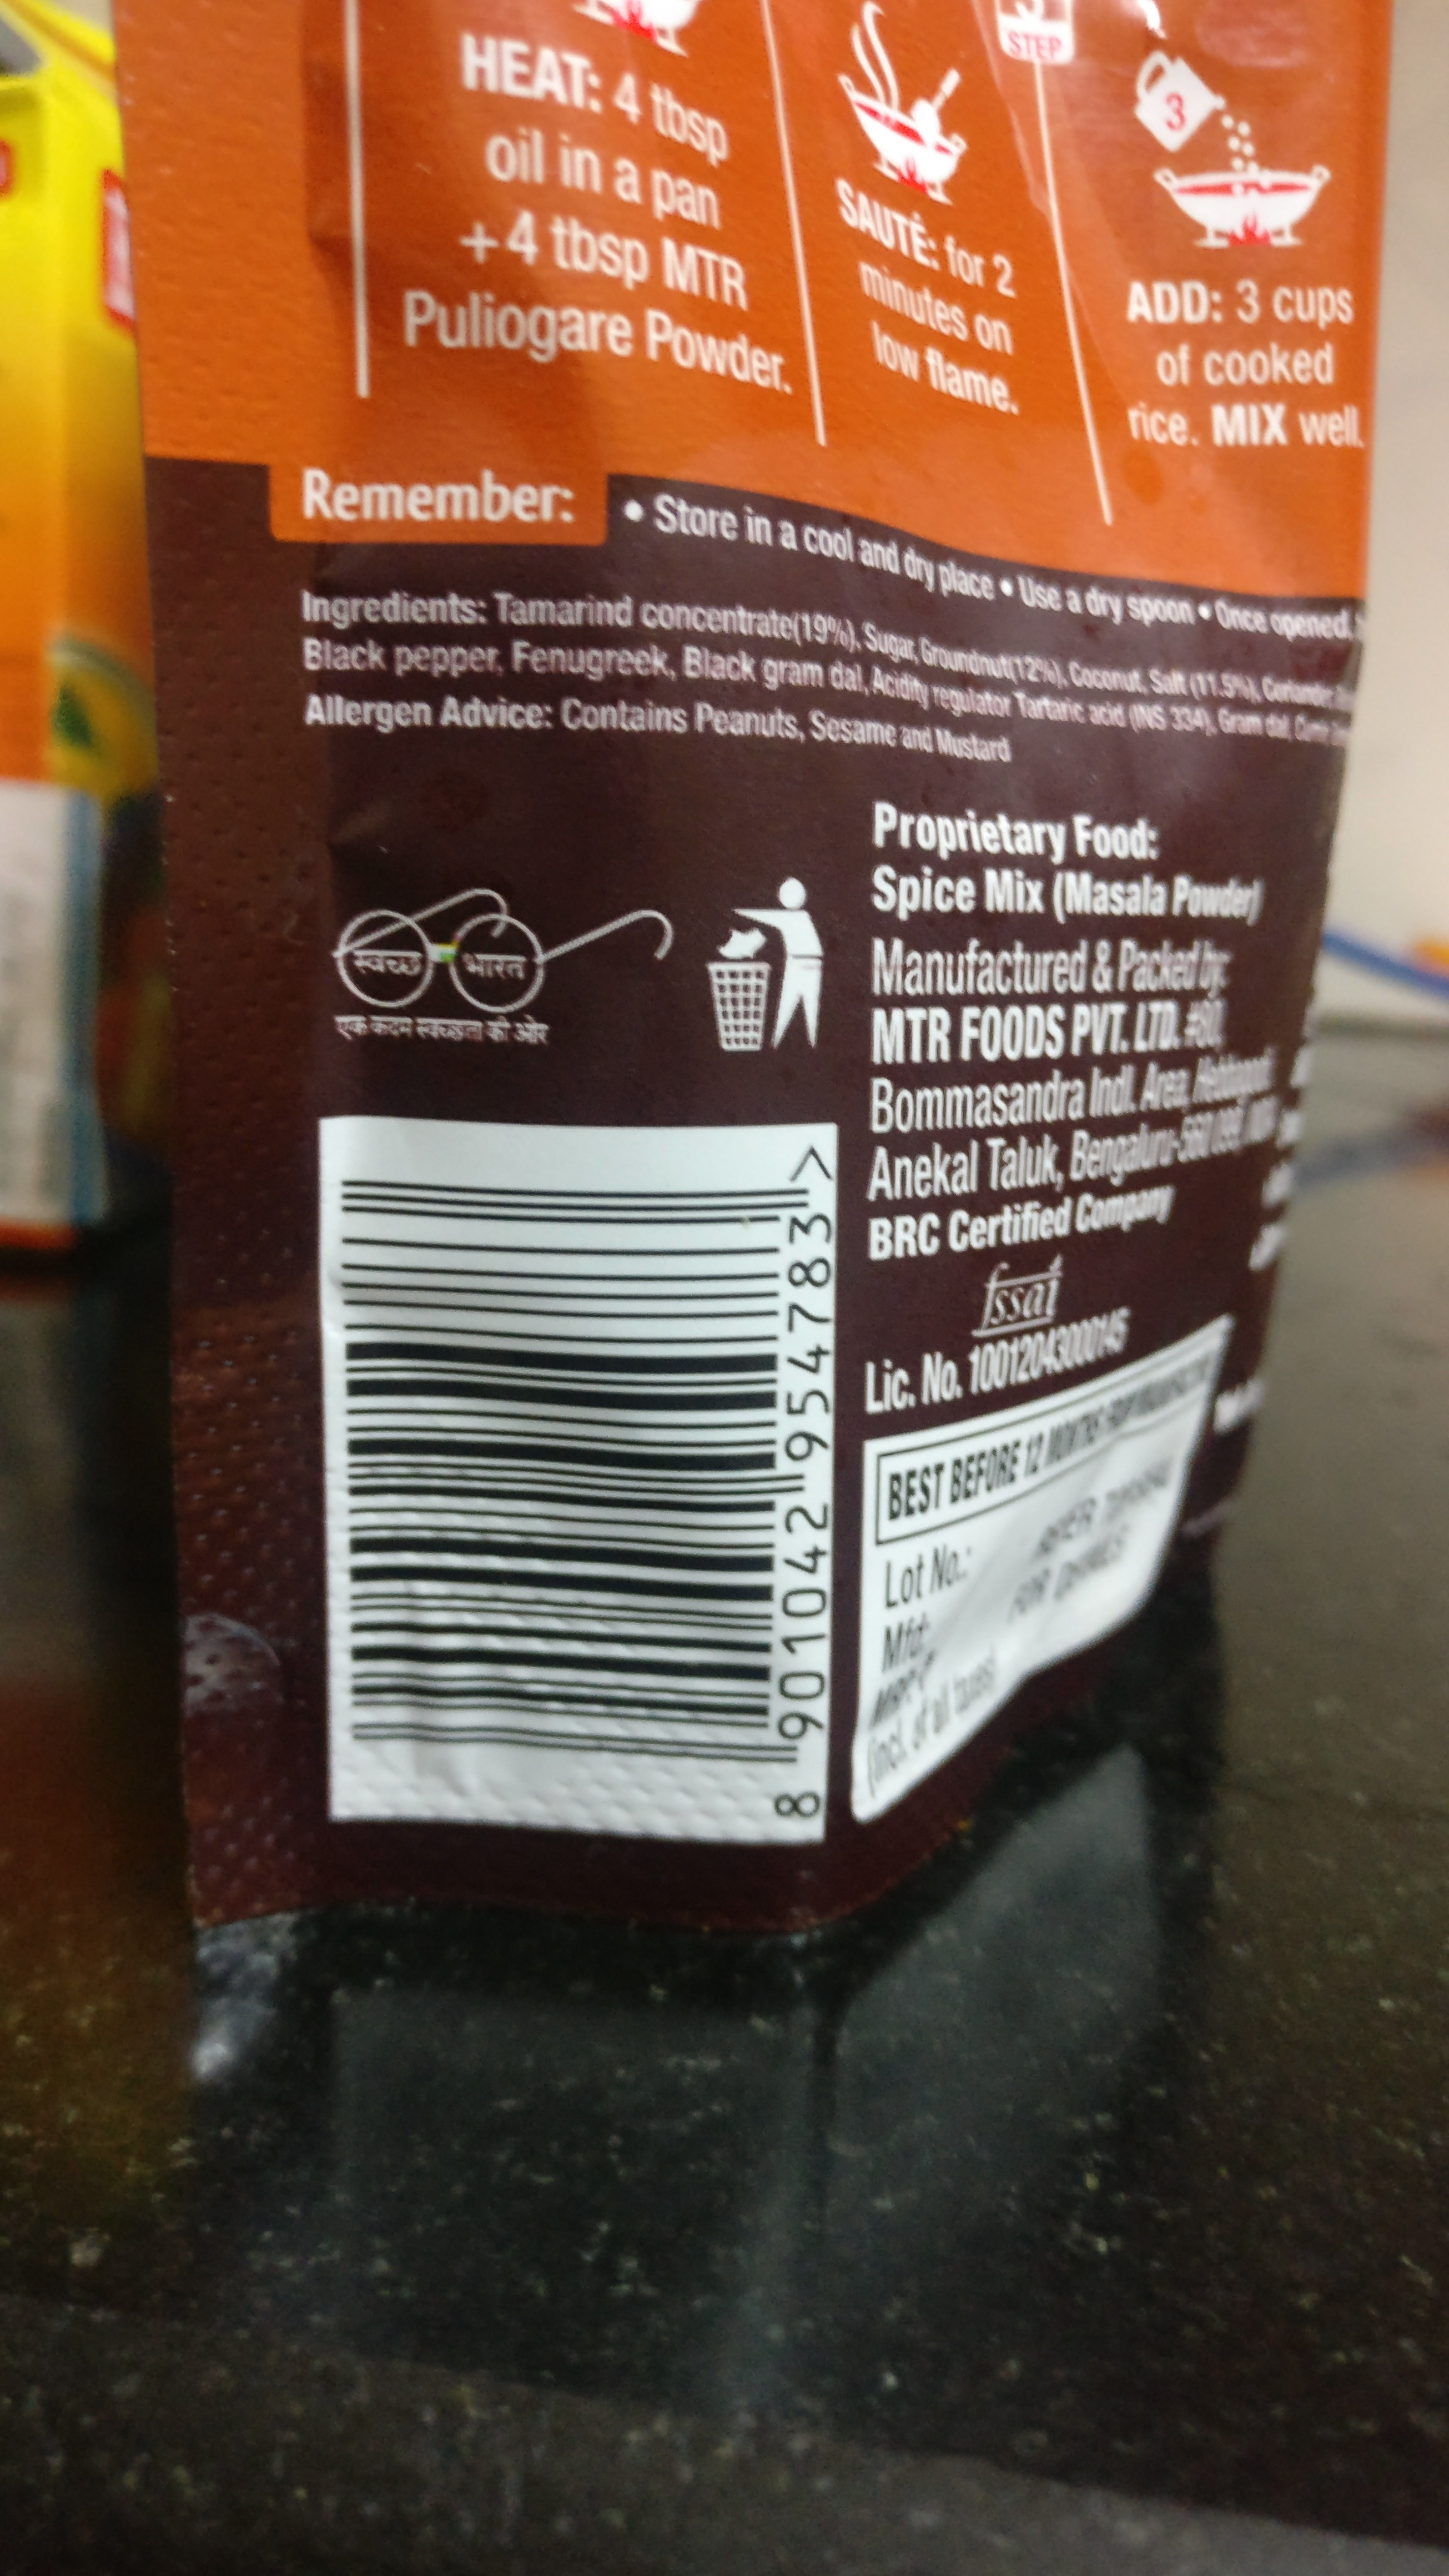barcode: (311, 1122, 847, 1854)
